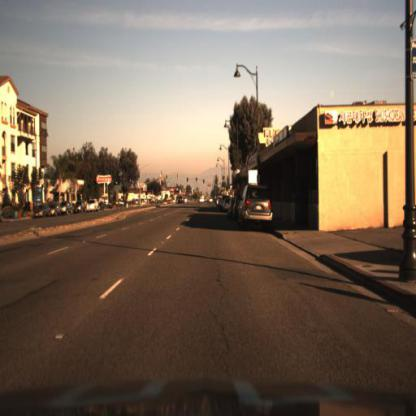car: (237, 182, 277, 231), (31, 200, 52, 221), (84, 197, 105, 218), (47, 201, 65, 220)
